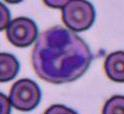N: (32, 27, 92, 82)
